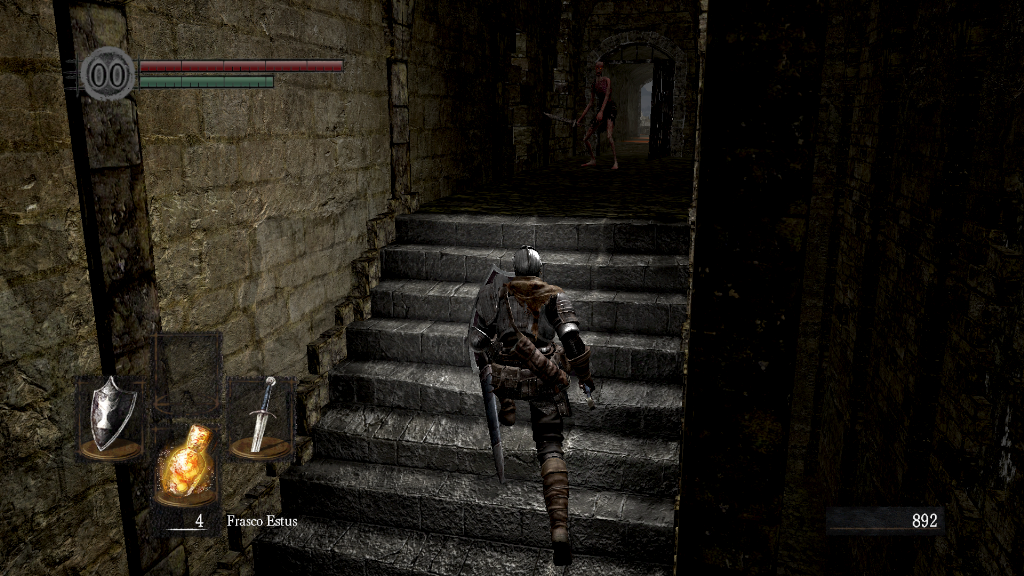health: (138, 58, 343, 71)
hollow: (577, 59, 620, 172)
humanity: (80, 45, 136, 102)
player: (463, 244, 601, 568)
souls: (825, 506, 945, 536)
stamina: (138, 74, 274, 88)
